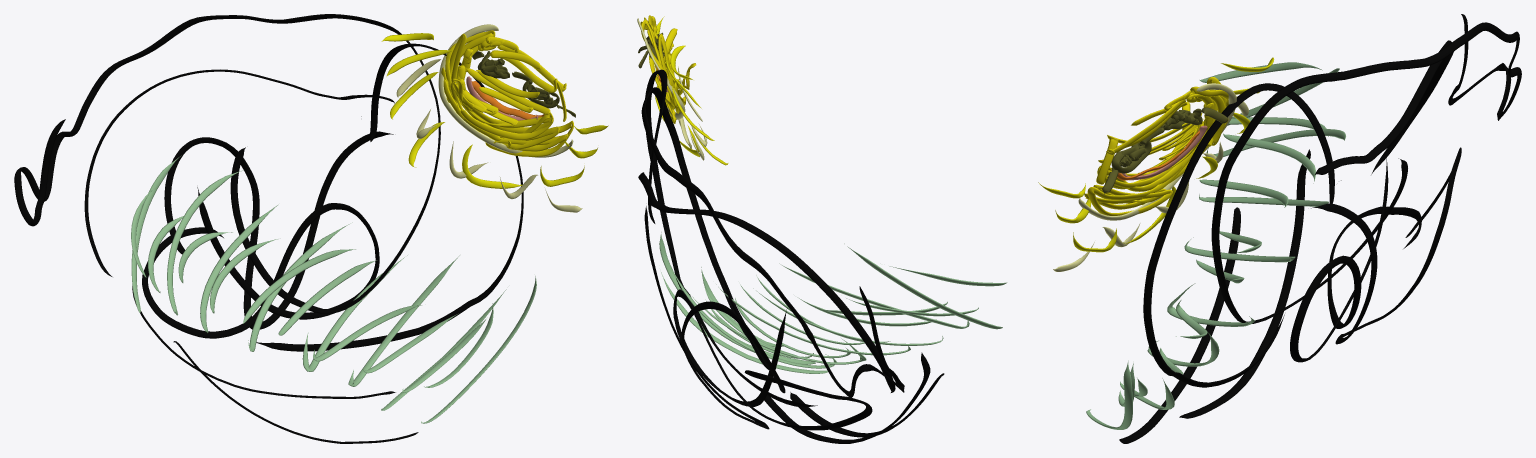
File: standin.gltf
3 views of the same model, side by side, from view 1: azimuth 30°, elevation 25°; view 2: azimuth 150°, elevation 25°; view 3: azimuth 270°, elevation 25° (orthographic). The views are drawn at different scales.
Visible parts, largest first — view 1: Paint.001; view 2: Paint.001; view 3: Paint.001.
Part boxes in pixels (x1,y1,x2,y2): Paint.001: (14, 14, 608, 443); Paint.001: (637, 15, 1007, 443); Paint.001: (1038, 14, 1521, 443).
Size of the model in its own units: 1.32 by 1.13 by 1.15.
